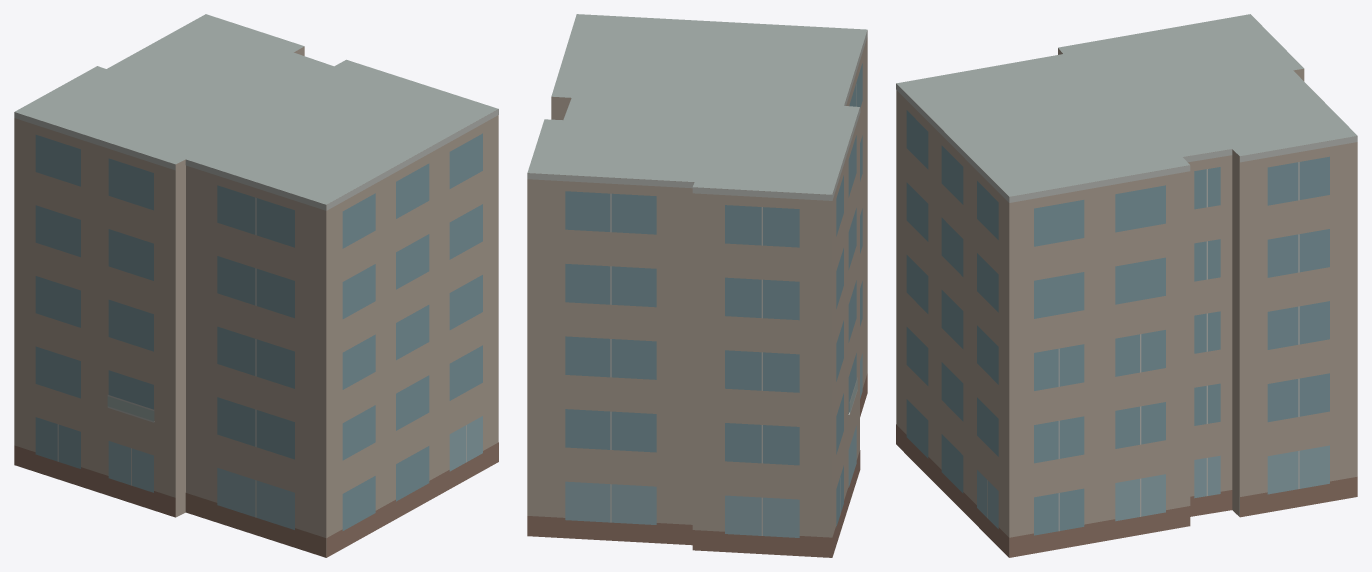
The model's file is survey-upis-32914963.glb.
3 views of the same model, side by side, from view 1: azimuth 30°, elevation 25°; view 2: azimuth 150°, elevation 25°; view 3: azimuth 270°, elevation 25° (orthographic). The views are drawn at different scales.
Visible parts, largest first — view 1: survey-upis-32914963.tmp; view 2: survey-upis-32914963.tmp; view 3: survey-upis-32914963.tmp.
Part boxes in pixels (x1,y1,x2,y2): survey-upis-32914963.tmp: [14, 14, 498, 557]; survey-upis-32914963.tmp: [527, 14, 867, 557]; survey-upis-32914963.tmp: [896, 14, 1357, 557].
Size of the model in its own units: 15.55 by 14.3 by 16.58.
